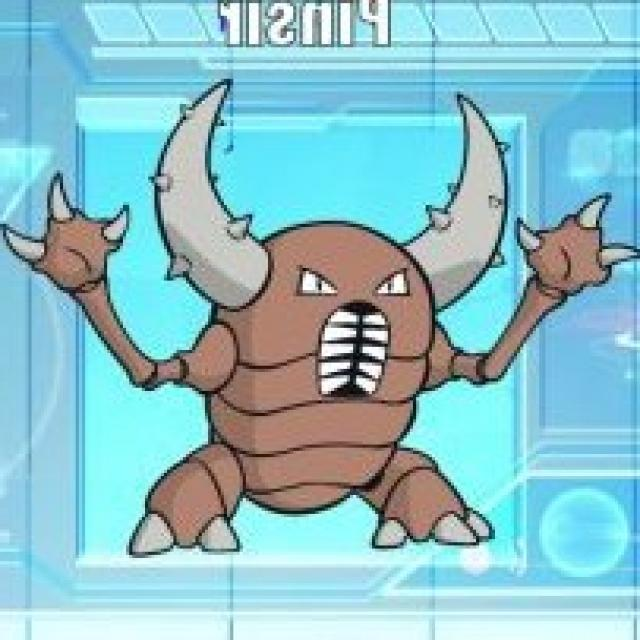Pinsir: (131, 87, 531, 557)
